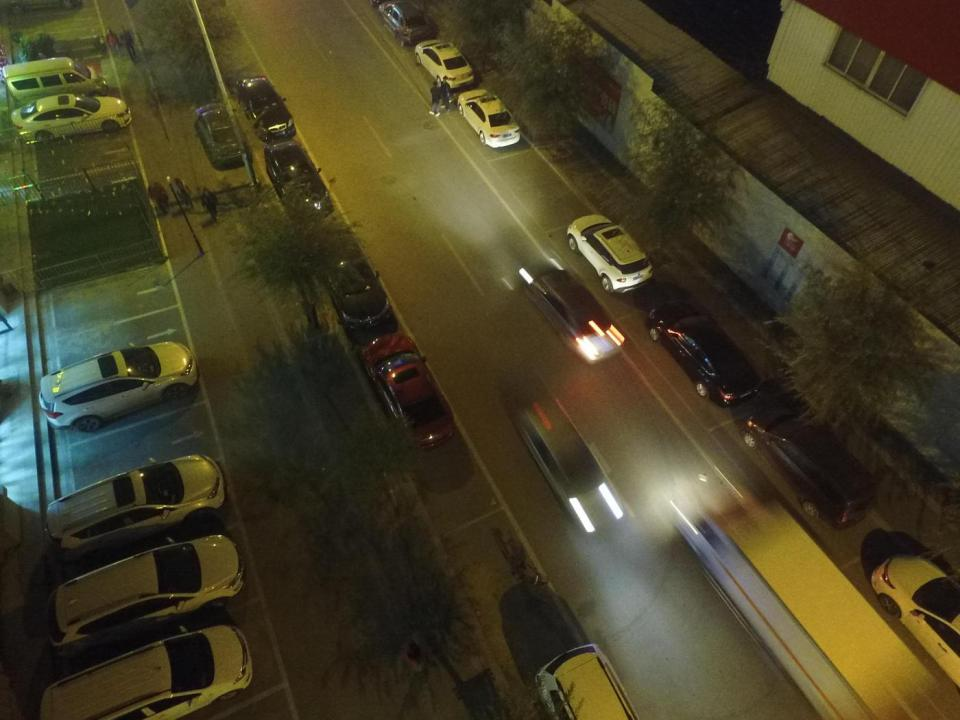car: (517, 396, 624, 532), (647, 301, 760, 407), (872, 556, 960, 692), (518, 256, 625, 366), (363, 333, 453, 453), (312, 223, 392, 332), (567, 214, 652, 293), (11, 92, 130, 142), (264, 138, 331, 220), (236, 75, 296, 142), (457, 89, 520, 148), (194, 102, 250, 165), (415, 38, 473, 88)
truck: (669, 474, 940, 720)
van: (44, 535, 244, 654), (39, 622, 251, 720), (44, 454, 225, 566), (744, 406, 874, 530), (38, 340, 198, 434), (536, 643, 640, 720), (2, 56, 106, 104), (378, 3, 432, 46)
